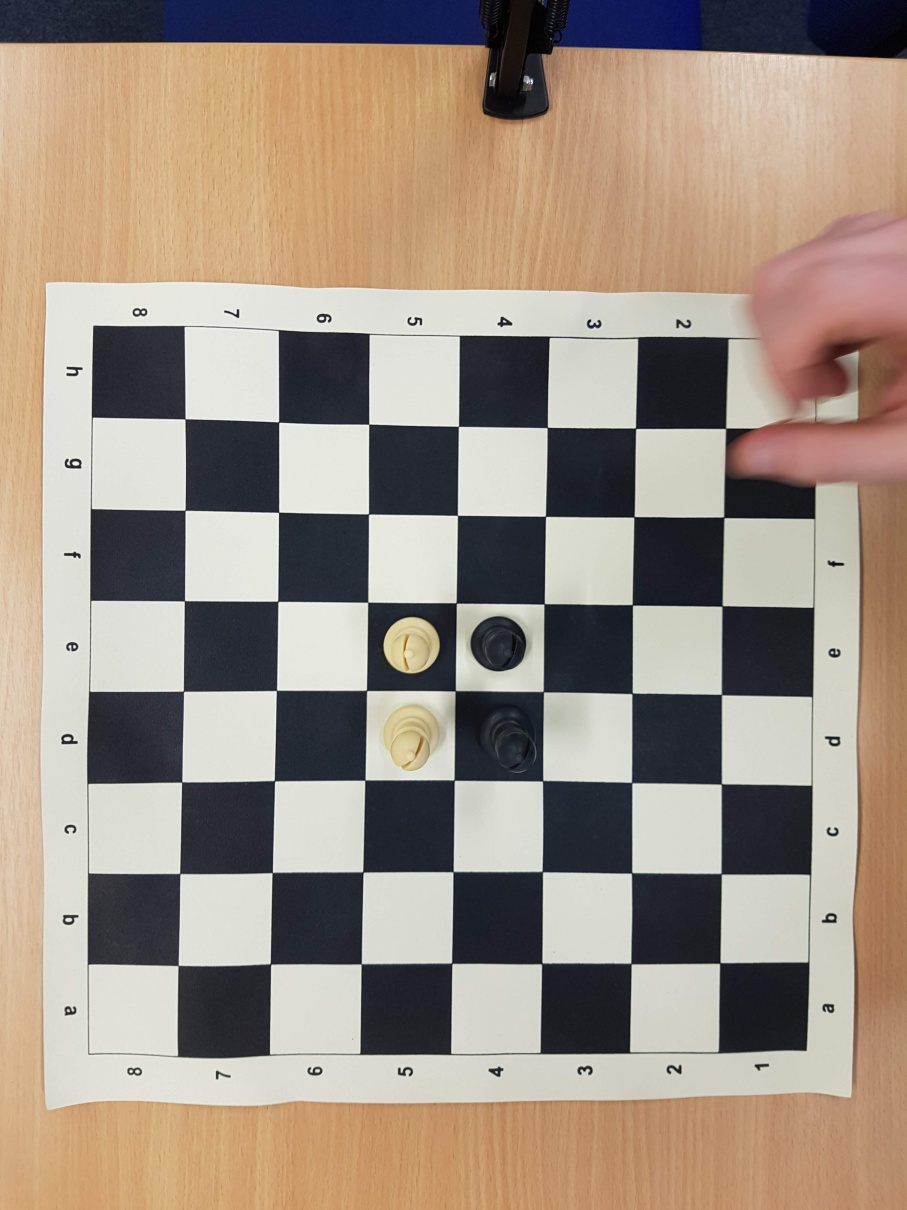chess_bishop: (483, 713, 540, 775), (383, 709, 438, 772), (384, 618, 438, 672), (473, 619, 525, 670)
